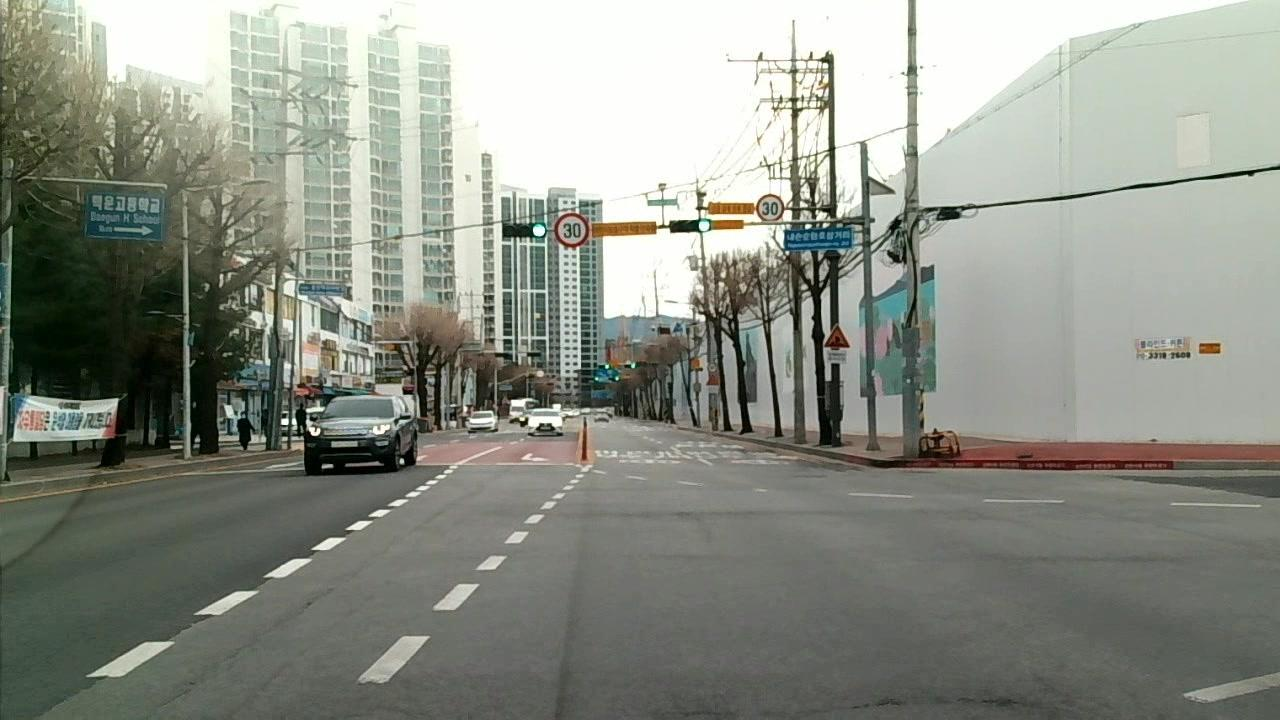banner: (796, 690, 1020, 714), (144, 670, 224, 714), (266, 592, 324, 631)
